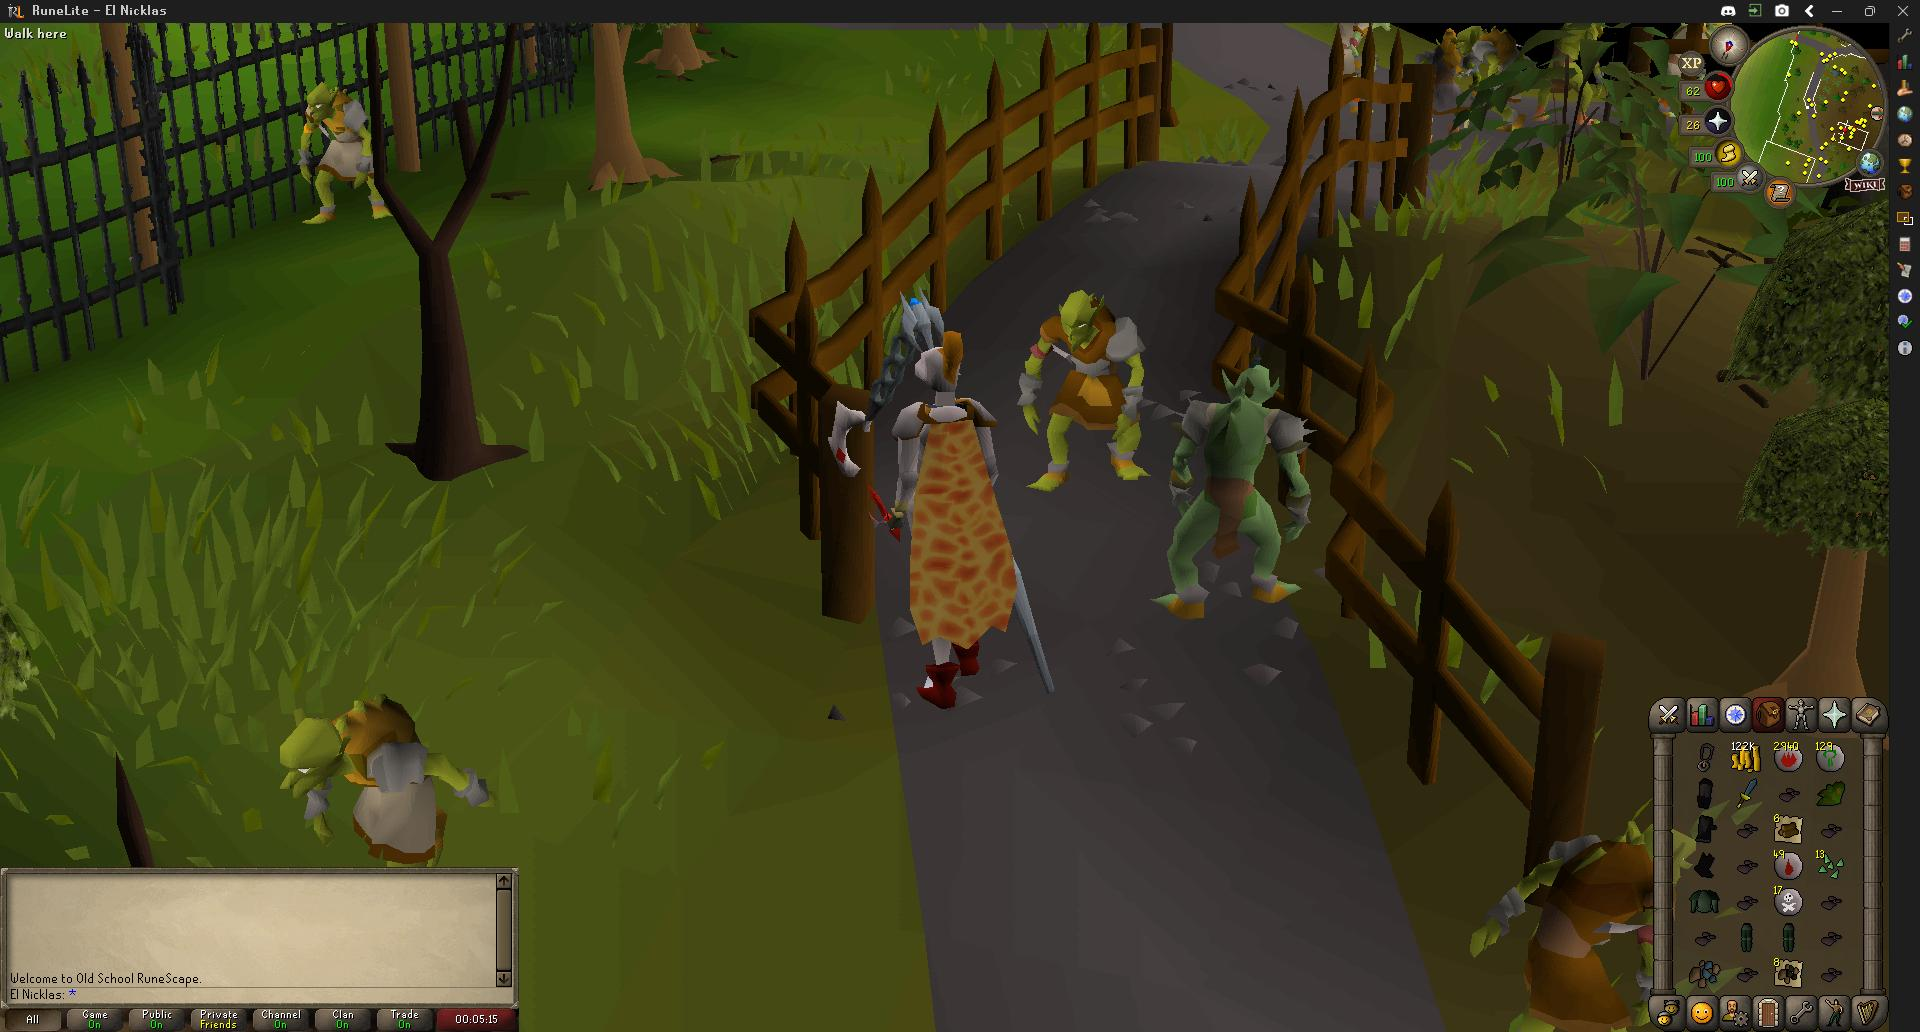Player: (837, 293, 1012, 710)
goblin: (1155, 355, 1308, 620), (282, 691, 499, 860), (1023, 288, 1142, 494), (295, 79, 389, 224), (1337, 20, 1372, 103)
